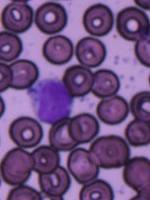L: (30, 78, 74, 125)
